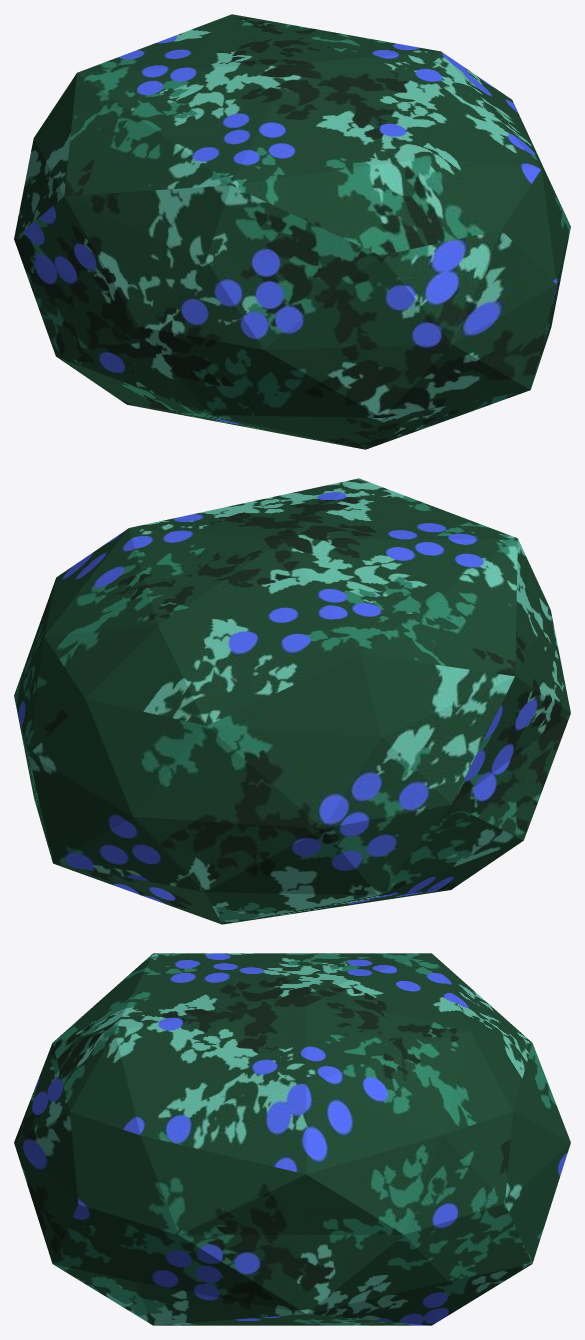
Rendered from Blue Berry Bush.fbx.
The picture shows the model from 3 angles, top to bottom: view 1: azimuth 30°, elevation 25°; view 2: azimuth 150°, elevation 25°; view 3: azimuth 270°, elevation 25°; orthographic projection. The views are drawn at different scales.
Visible parts, largest first — view 1: Icosphere; view 2: Icosphere; view 3: Icosphere.
Part boxes in pixels (x1=…): Icosphere: x1=14, y1=14, x2=570, y2=449; Icosphere: x1=14, y1=478, x2=570, y2=924; Icosphere: x1=14, y1=953, x2=570, y2=1325.
Bounding box in the file's own units: 294 × 200 × 343.
